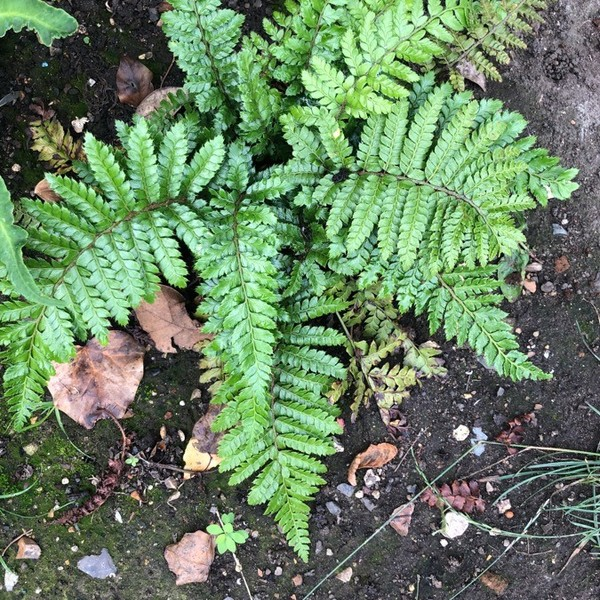obstacle: (61, 29, 591, 491)
